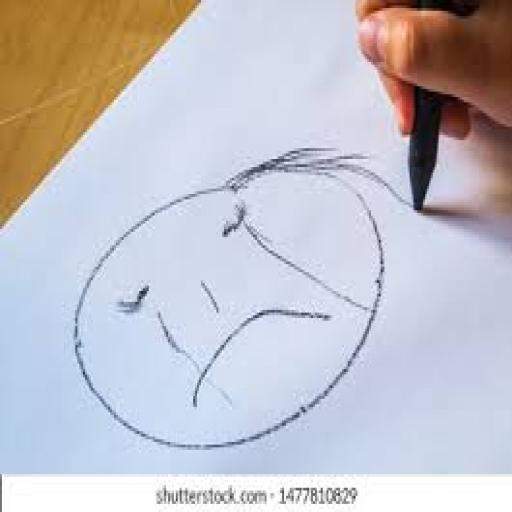person: (73, 140, 386, 470)
